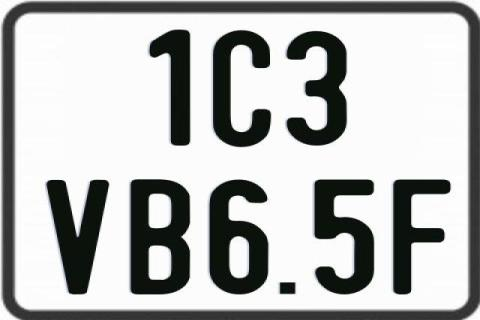0: (284, 30, 349, 146), (206, 178, 271, 294), (311, 178, 372, 294), (146, 29, 190, 149)
B: (131, 179, 193, 299)
C: (213, 29, 274, 149)
F: (390, 180, 454, 300)
V: (43, 179, 111, 295)
